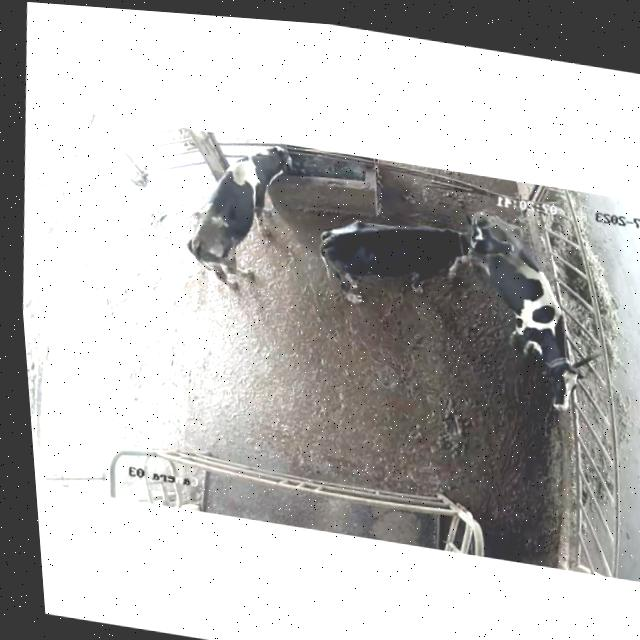propping: (423, 213, 534, 273)
